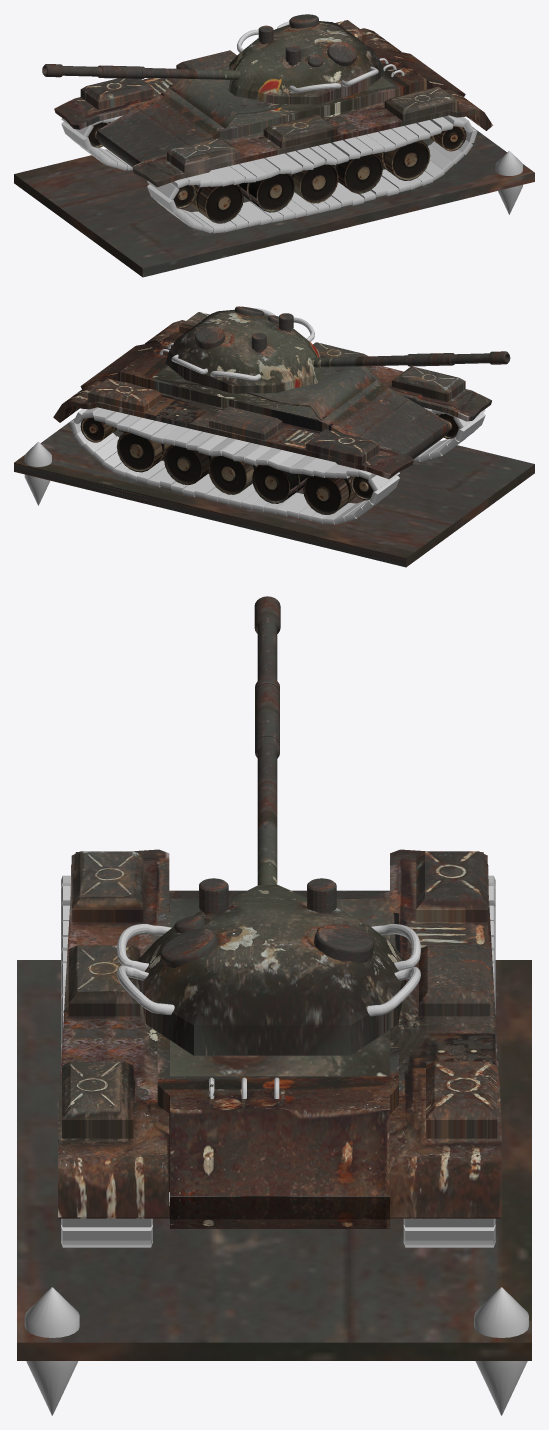
File: tank.fbx
3 views of the same model, one above another, from view 1: azimuth 30°, elevation 25°; view 2: azimuth 150°, elevation 25°; view 3: azimuth 270°, elevation 25° (orthographic). The views are drawn at different scales.
Parts seen in each view (by area): view 1: pCube80, polySurface289, polySurface517, pCube79, pCube73, polySurface217, pCube78, pCylinder41, pCylinder37, pCylinder38; view 2: pCube80, polySurface289, polySurface517, pCube79, pCube73, polySurface217, pCube78, pCylinder40, pCylinder38; view 3: pCube80, polySurface289, pCube79, pCube73, pCube78, polySurface517, pCylinder41, pCylinder40, pCylinder38, pCylinder37, polySurface292, pCylinder34 (+1 smaller).
Boxes of the visible parts, box(x1,y1,x2,y2) form: pCube80: box(14, 127, 534, 277); polySurface289: box(54, 20, 492, 187); polySurface517: box(61, 115, 477, 233); pCube79: box(42, 21, 384, 104); pCube73: box(96, 39, 465, 186); polySurface217: box(88, 122, 466, 223); pCube78: box(170, 65, 394, 128); pCylinder41: box(495, 150, 522, 214); pCylinder37: box(327, 41, 356, 66); pCylinder38: box(289, 14, 319, 28); pCube80: box(14, 418, 534, 567); polySurface289: box(53, 312, 491, 479); polySurface517: box(69, 407, 485, 524); pCube79: box(165, 309, 510, 393); pCube73: box(80, 331, 450, 477); polySurface217: box(80, 413, 459, 514); pCube78: box(152, 366, 375, 420); pCylinder40: box(24, 441, 51, 505); pCylinder38: box(195, 326, 224, 349); pCube80: box(17, 960, 531, 1360); polySurface289: box(58, 849, 501, 1218); pCube79: box(137, 596, 406, 1055); pCube73: box(157, 890, 398, 1228); pCube78: box(170, 899, 389, 1076); polySurface517: box(61, 875, 495, 1247); pCylinder41: box(24, 1287, 79, 1415); pCylinder40: box(474, 1287, 528, 1415); pCylinder38: box(314, 924, 374, 963); pCylinder37: box(160, 928, 218, 967); polySurface292: box(116, 965, 174, 1014); pCylinder34: box(199, 878, 228, 914).
Bounding box in the file's own units: 41.18 × 19.33 × 21.44.
